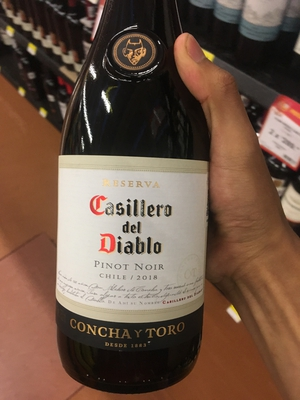casillero del diablo pinot noir: (57, 23, 262, 400)
